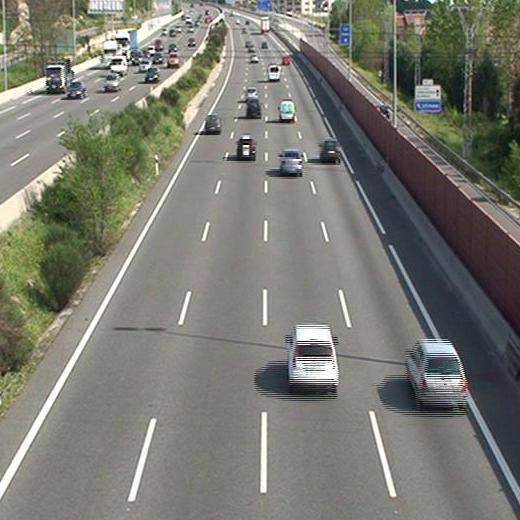car: (405, 341, 466, 409), (286, 326, 339, 389), (276, 149, 304, 175), (318, 137, 342, 161), (236, 136, 255, 159), (205, 113, 221, 134), (246, 100, 261, 118), (244, 86, 260, 100)
van: (278, 100, 297, 120), (267, 65, 280, 82)
